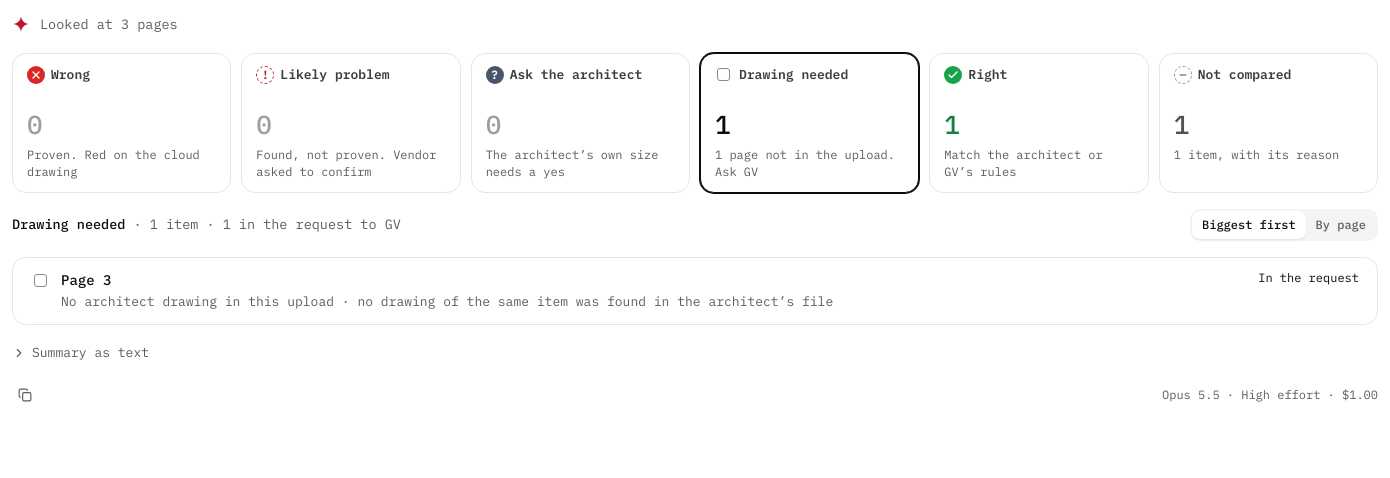
pairing unsure › shows on the screen under Not compared
Click the tab "Not compared 1 1 item, with its reason" at (1268, 123), box top-left (1159, 53), bottom-right (1378, 193)
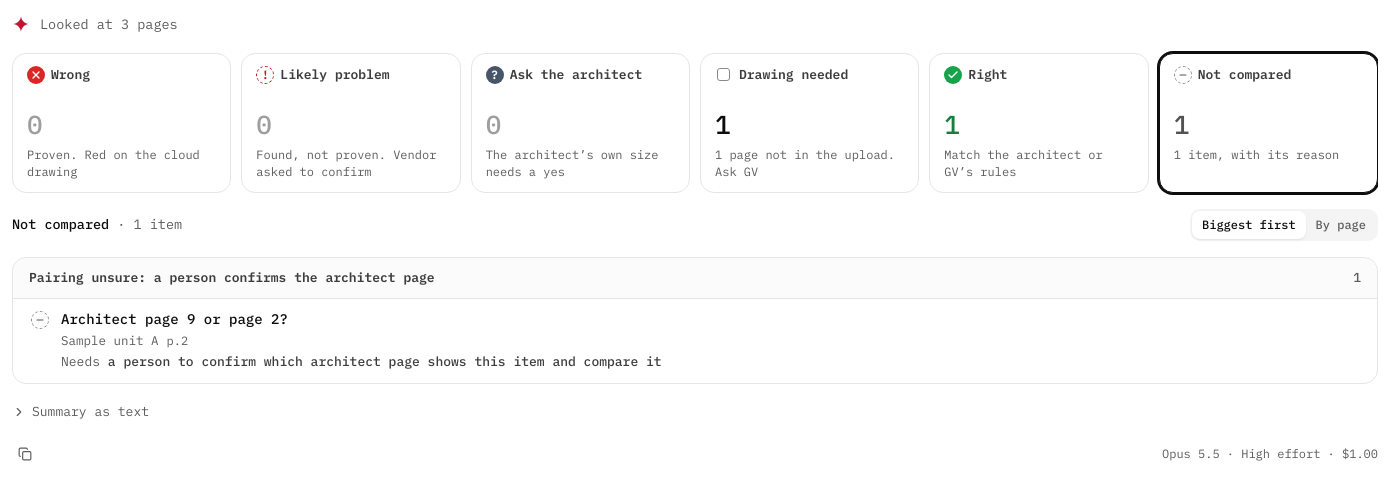
Check: the text "Pairing unsure" is not shown
Check: the button with aria-label "Architect page 9 or page 2?, page 2. Open the evidence" shows "Architect page 9 or page 2", box top-left (13, 299), bottom-right (1377, 383)
